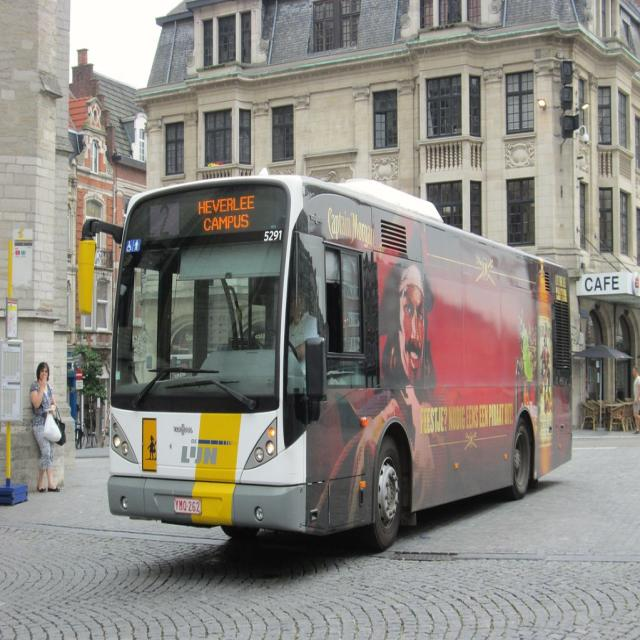bus-number: (149, 204, 179, 239)
